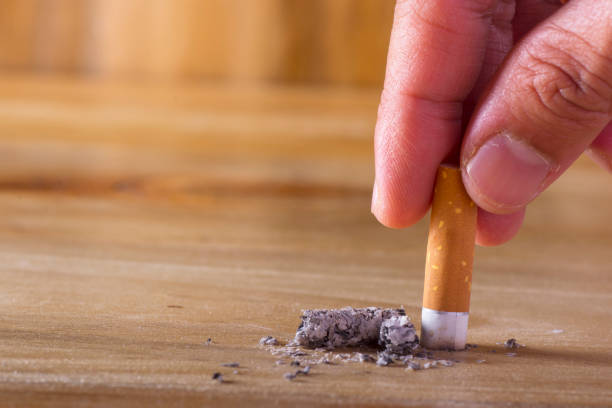cigarette: (421, 167, 477, 350)
